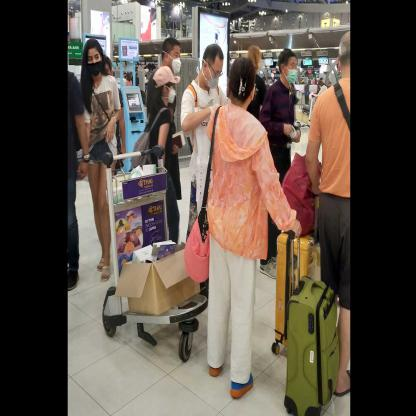Wearing_Mask: (208, 57, 222, 91), (284, 52, 298, 85), (88, 49, 102, 76), (167, 80, 178, 107), (170, 48, 180, 74)
